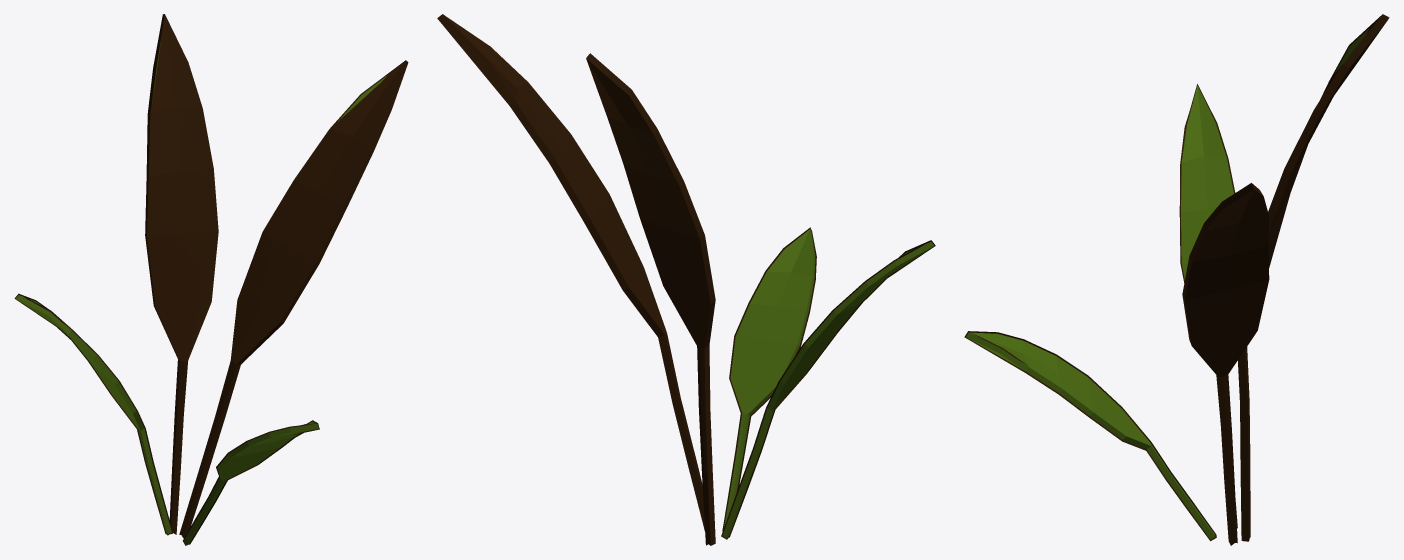
Rendered from PlantYard_2_(Outlined)_v002.fbx.
The picture shows the model from 3 angles, left to right: view 1: azimuth 30°, elevation 25°; view 2: azimuth 150°, elevation 25°; view 3: azimuth 270°, elevation 25°; orthographic projection. The views are drawn at different scales.
Visible parts, largest first — view 1: Plane.003; view 2: Plane.003; view 3: Plane.003.
Part boxes in pixels (box(x1,y1,x2,y2)): Plane.003: box(14, 14, 408, 545); Plane.003: box(437, 14, 935, 545); Plane.003: box(964, 14, 1389, 545).
Size of the model in its own units: 697 by 745 by 516.
